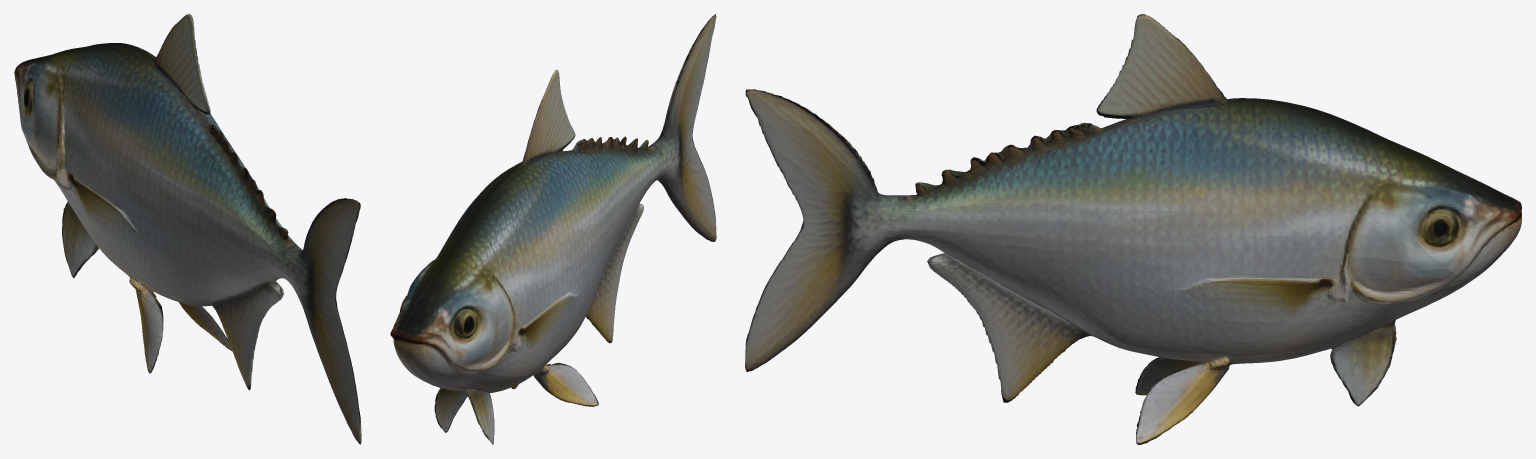
The model's file is environment-diplomystus-vault.glb.
The picture shows the model from 3 angles, left to right: view 1: azimuth 30°, elevation 25°; view 2: azimuth 150°, elevation 25°; view 3: azimuth 270°, elevation 25°; orthographic projection. The views are drawn at different scales.
Visible parts, largest first — view 1: world; view 2: world; view 3: world.
Boxes of the visible parts, left/top/right/bottom form: world: left=14, top=14, right=361, bottom=444; world: left=390, top=14, right=716, bottom=444; world: left=745, top=14, right=1521, bottom=444.
Bounding box in the file's own units: 0.1657 × 0.577 × 0.9999.
1 material, 1 textured.
